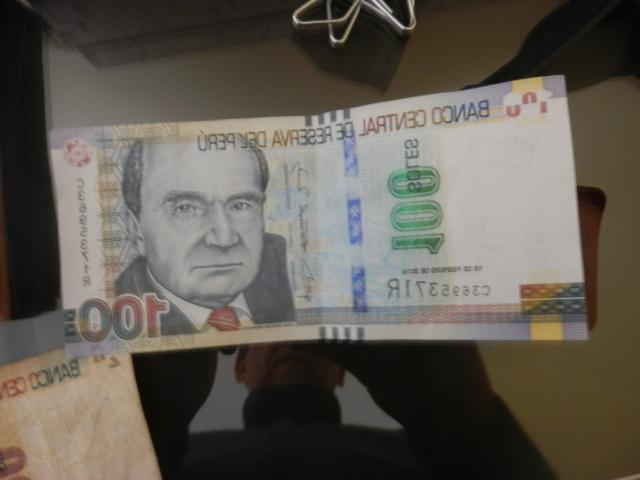B100: (55, 75, 594, 356)
